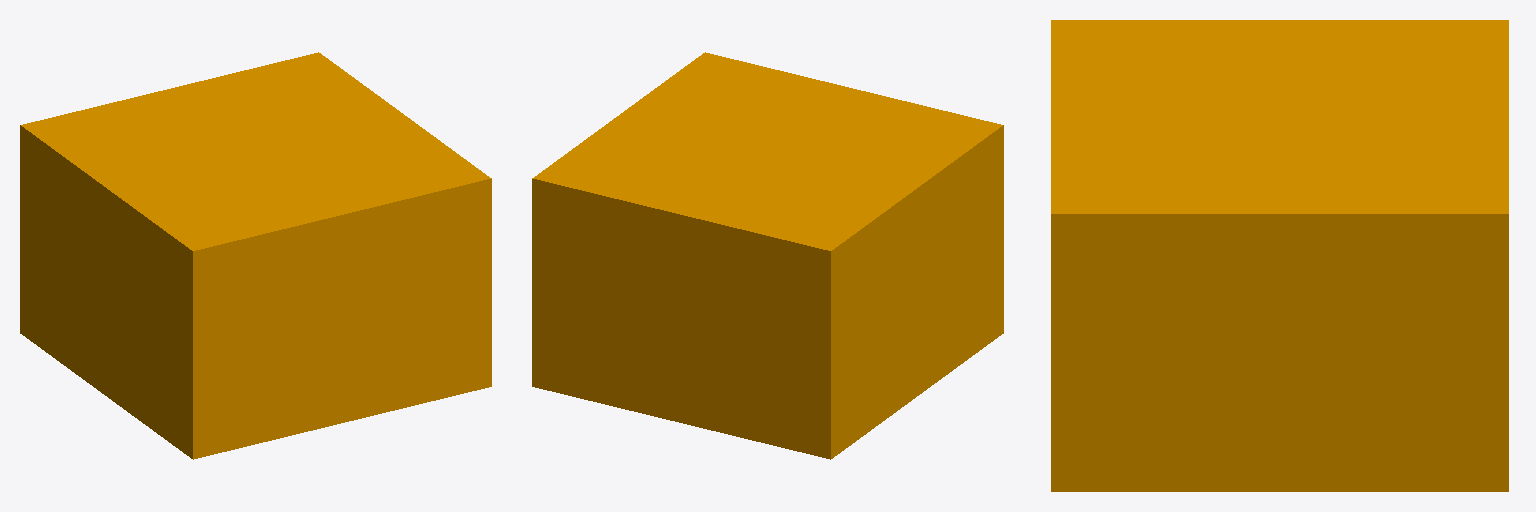
The robot description file, URDF, robot "object":
<?xml version="0.0"?>
	<robot name="object">
		<link name="object">
			<visual>
				<origin xyz="0 0 0"/>
				<geometry>
					<box size="0.6 0.6 0.4"/>
				</geometry>
			</visual>
			<inertial>
				<mass value="14.400"/>
			</inertial>
			<collision>
				<origin xyz="0 0 0"/>
				<geometry>
					<box size="0.6 0.6 0.4"/>
				</geometry>
			</collision>
		</link>

	</robot>

--- Facts derived from the render (not from the file) ---
The picture shows the robot from 3 angles, left to right: view 1: azimuth 30°, elevation 25°; view 2: azimuth 150°, elevation 25°; view 3: azimuth 270°, elevation 25°; orthographic projection.
Robot: object — 1 links, 0 joints (none); root link object; default pose: all joints at 0.
Links seen in each view (by area): view 1: object; view 2: object; view 3: object.
Link boxes in pixels (box(x1,y1,x2,y2)): object: box(20, 52, 491, 459); object: box(532, 52, 1003, 459); object: box(1051, 20, 1508, 491).
Bounding box of the posed robot: 0.6 × 0.6 × 0.4 m (x, y, z).
Geometry: primitives only (box / cylinder / sphere), no mesh files.